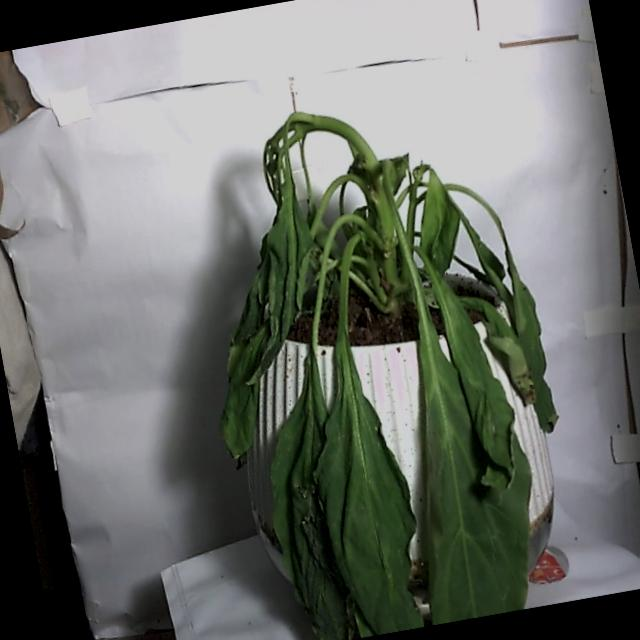Leaf: (379, 322, 552, 626), (291, 327, 430, 640)
